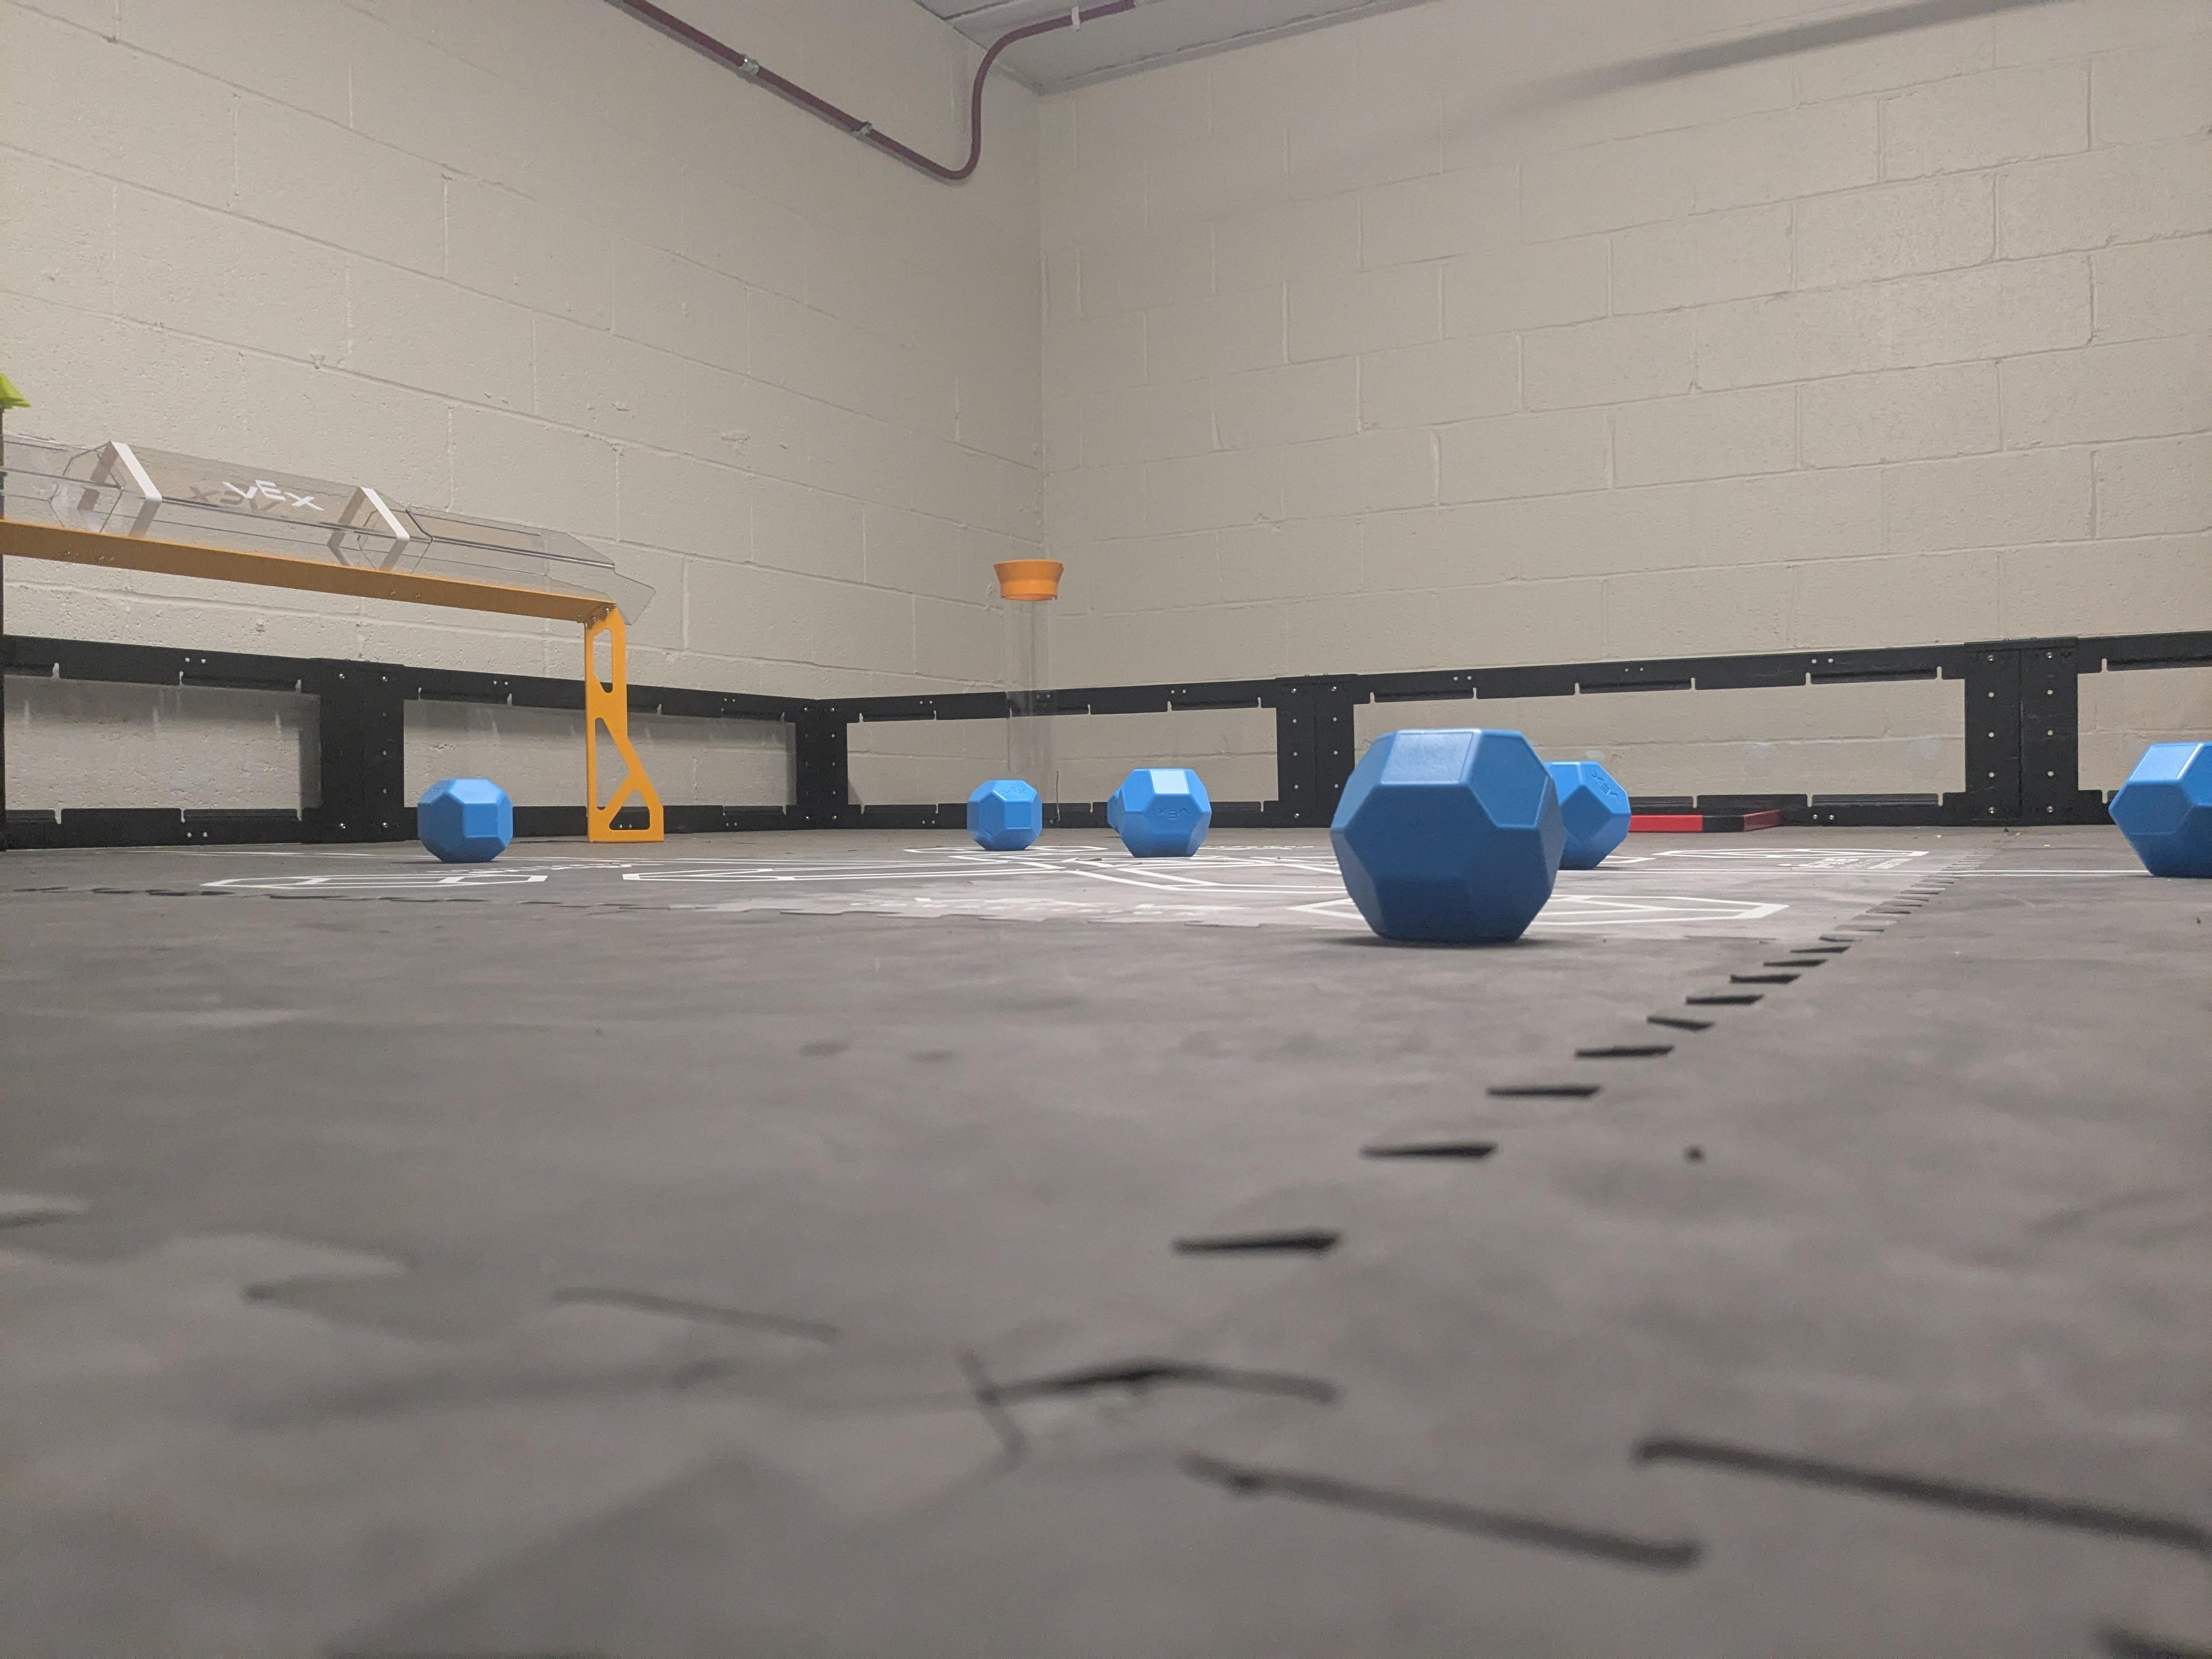Vex-Pieces-BLUE: (1334, 727, 1627, 941), (2114, 741, 2207, 877), (1109, 770, 1212, 854), (418, 781, 510, 857), (968, 781, 1047, 847)
